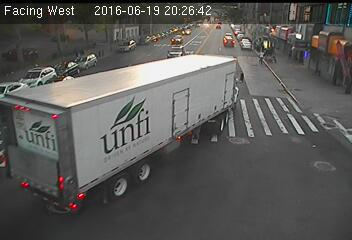neg: (118, 75, 145, 111), (245, 174, 272, 210), (189, 48, 216, 83), (88, 123, 113, 156), (222, 93, 244, 123), (49, 56, 71, 86), (287, 56, 308, 85), (297, 146, 318, 173), (252, 38, 272, 65), (170, 98, 190, 124), (268, 98, 287, 122), (135, 178, 153, 202), (104, 28, 122, 51), (186, 179, 203, 202)
